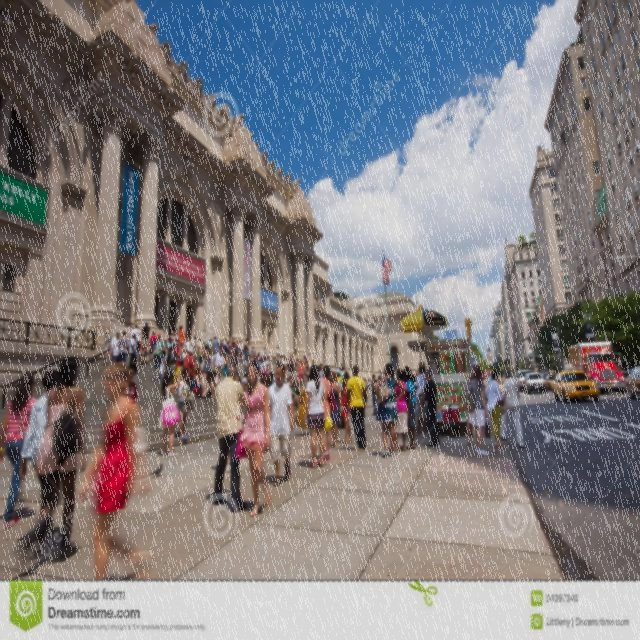pessoa: (76, 362, 150, 580), (26, 352, 88, 564), (18, 367, 66, 552), (150, 16, 230, 120), (0, 368, 42, 530), (234, 360, 274, 519), (210, 363, 250, 513), (266, 363, 294, 488), (301, 363, 333, 470), (374, 361, 406, 458), (462, 363, 490, 456), (497, 367, 525, 449), (344, 362, 368, 453), (158, 368, 182, 457), (482, 368, 508, 449), (221, 335, 279, 363), (420, 367, 440, 447), (261, 148, 298, 190), (400, 364, 418, 450), (318, 364, 332, 463), (392, 368, 408, 452), (176, 366, 194, 440), (328, 370, 344, 450), (339, 370, 354, 444), (414, 360, 428, 438), (460, 371, 473, 447), (148, 332, 166, 382), (122, 362, 138, 404), (182, 351, 195, 394), (116, 328, 130, 366), (305, 354, 323, 382), (200, 370, 216, 400), (196, 337, 212, 367), (126, 332, 138, 370), (357, 377, 368, 418), (192, 366, 207, 396), (108, 330, 120, 366), (370, 373, 379, 417), (287, 380, 303, 404), (210, 346, 225, 369), (140, 320, 151, 350), (257, 368, 275, 386), (111, 333, 121, 363), (130, 323, 141, 350), (213, 368, 226, 390), (138, 344, 150, 366), (168, 340, 180, 362), (584, 355, 598, 373), (334, 361, 344, 386), (286, 354, 294, 384), (298, 358, 306, 388), (102, 328, 111, 352), (584, 312, 594, 332), (259, 354, 270, 372), (410, 372, 418, 396), (211, 336, 221, 354), (316, 286, 324, 308), (148, 329, 158, 346), (529, 362, 546, 372), (178, 325, 185, 349), (239, 372, 249, 388), (182, 336, 190, 354), (160, 350, 167, 370), (175, 347, 188, 357), (162, 336, 173, 346), (92, 333, 99, 347), (169, 330, 177, 342), (191, 334, 197, 350), (377, 368, 385, 380), (225, 353, 231, 368), (279, 350, 285, 362), (292, 352, 298, 364), (275, 344, 280, 358), (553, 338, 559, 348), (152, 338, 158, 346), (626, 365, 632, 373), (528, 352, 532, 358)
